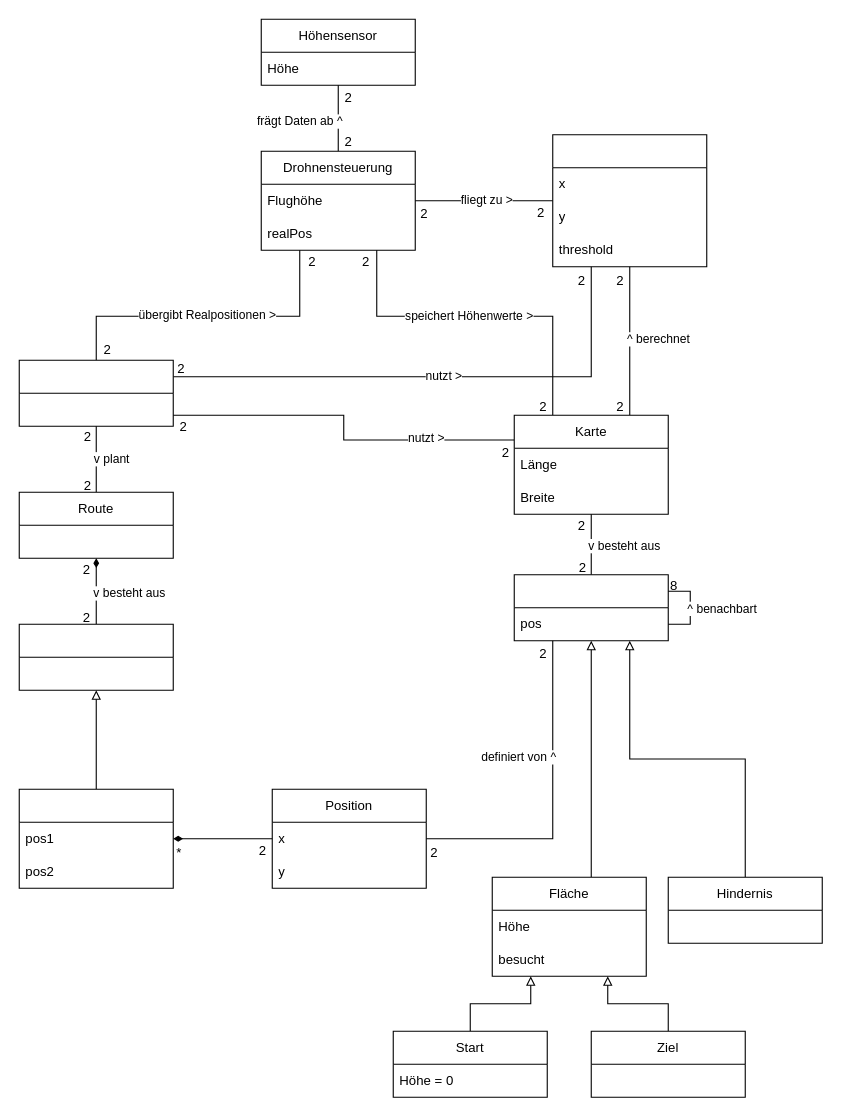
This 842x1117 diagram has some shape labels left out. The box of each missing label's shape, as (x1, y1, x2, y2) in pixels:
Realposition: (552, 134, 707, 267)
Routenelement: (18, 623, 173, 690)
Routenplaner: (18, 359, 173, 426)
Segment: (513, 574, 668, 641)
Strecke: (18, 788, 173, 888)
